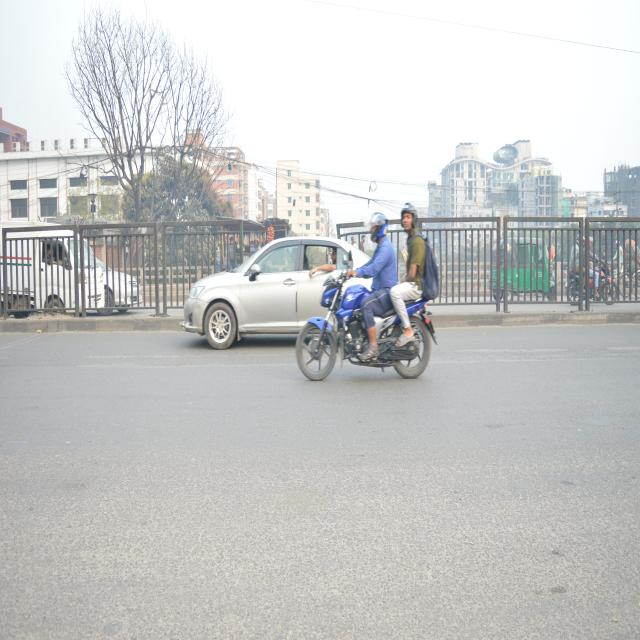car: (188, 238, 375, 342)
motorbike: (298, 267, 434, 388), (552, 250, 626, 326)
pickup-van: (0, 209, 102, 328)
